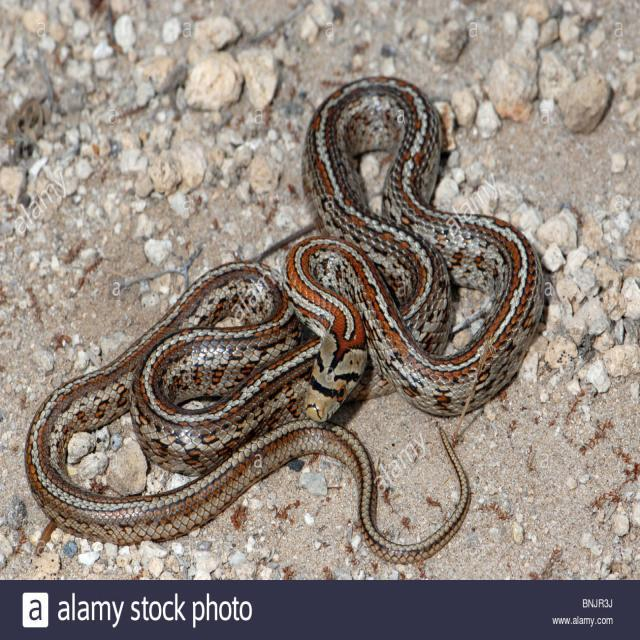Snake: (23, 73, 546, 566)
